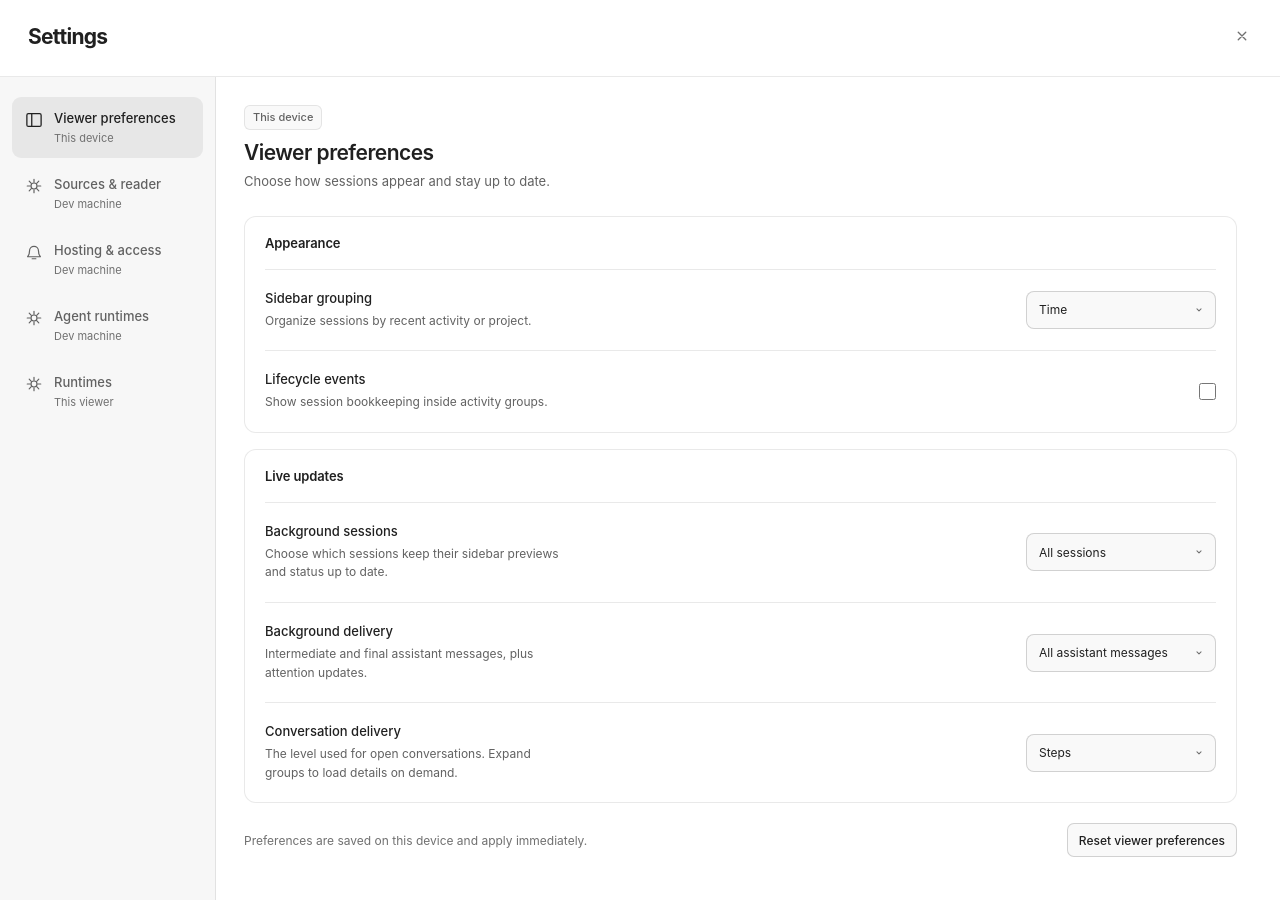
Test case: SettingsPage › identifies the selected machine and exposes source paths only as detected records
This screenshot has width=1280, height=900.
Click the button "Sources & reader Dev machine".
click(108, 194)  # box [12, 163, 203, 224]
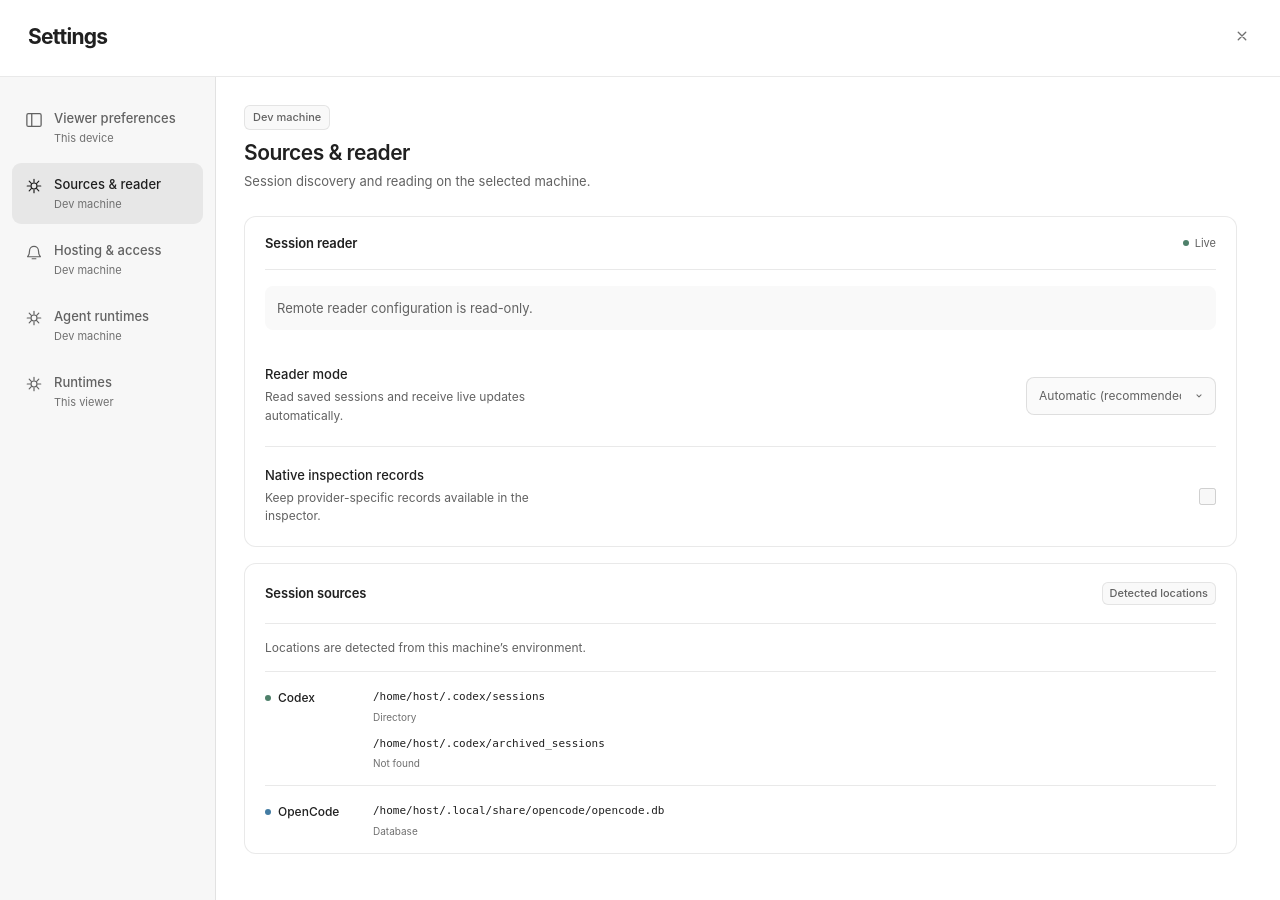
Result: the heading "Sources & reader" is shown at [244, 140, 410, 165]
Result: the 1st text "Dev machine" is shown at [244, 105, 330, 130]
Result: the dropdown labelled "Reader mode" is disabled at [1026, 377, 1216, 415]
Click the button "Hosting & access Dev machine".
click(108, 260)  # box [12, 229, 203, 290]
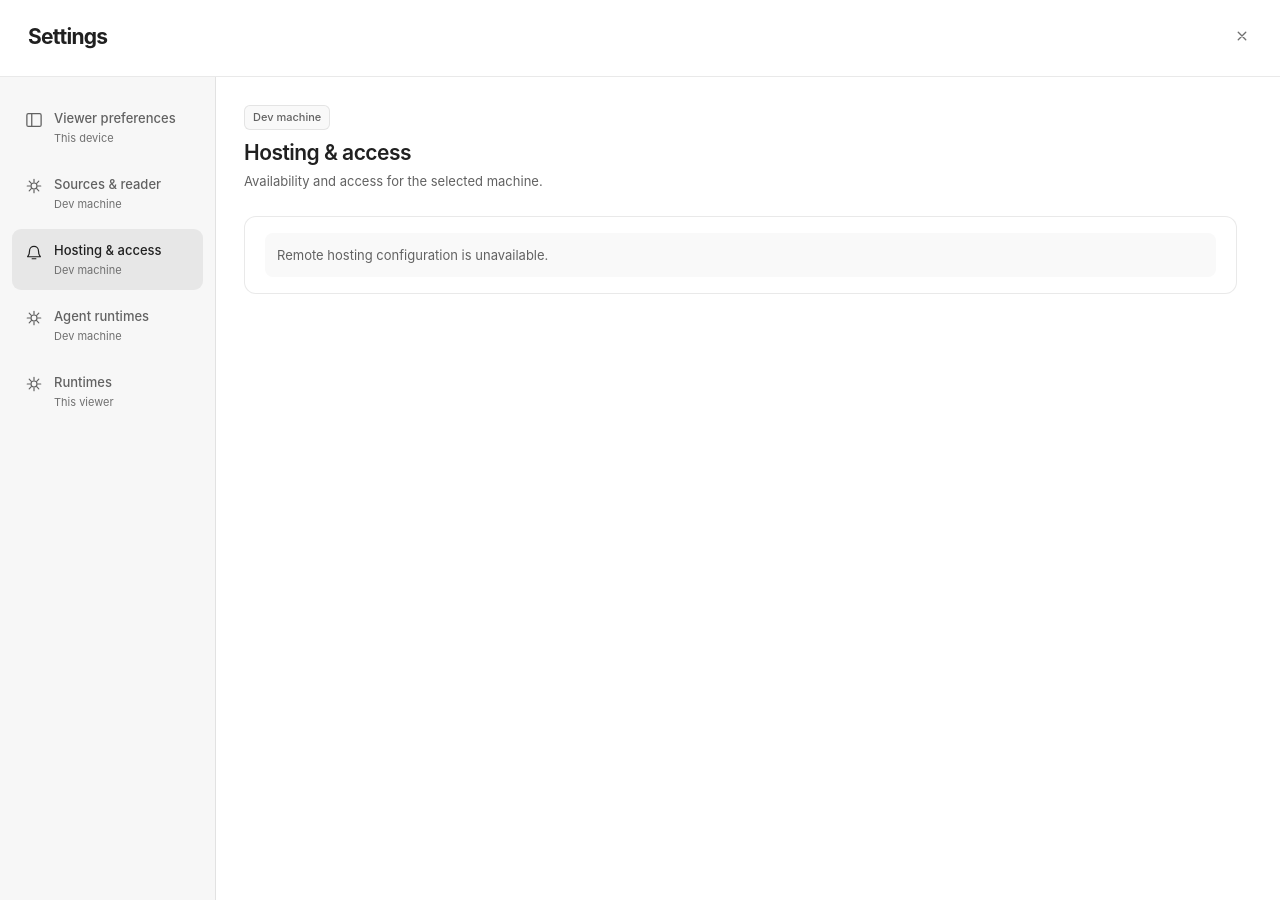
Result: the text "Remote hosting configuration is unavailable." is shown at [265, 232, 1216, 277]
